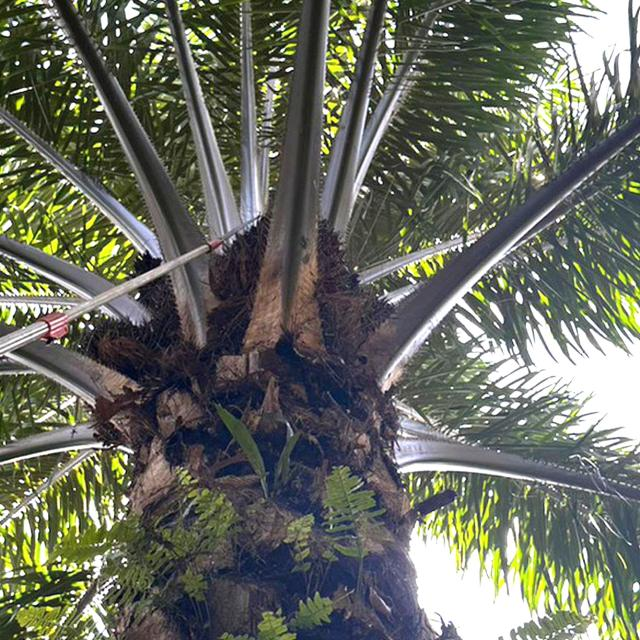ripe: (214, 203, 360, 311)
